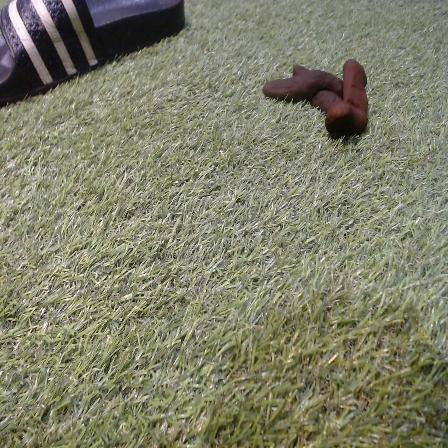dog-poop: (263, 58, 377, 133)
